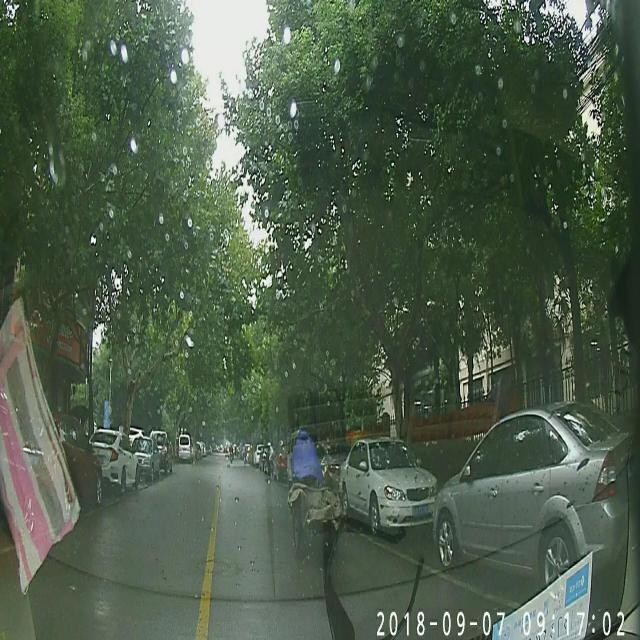car: (436, 400, 631, 588), (339, 436, 437, 536), (14, 418, 100, 500), (89, 428, 140, 491), (128, 432, 159, 486), (150, 429, 174, 475), (178, 429, 193, 462)
